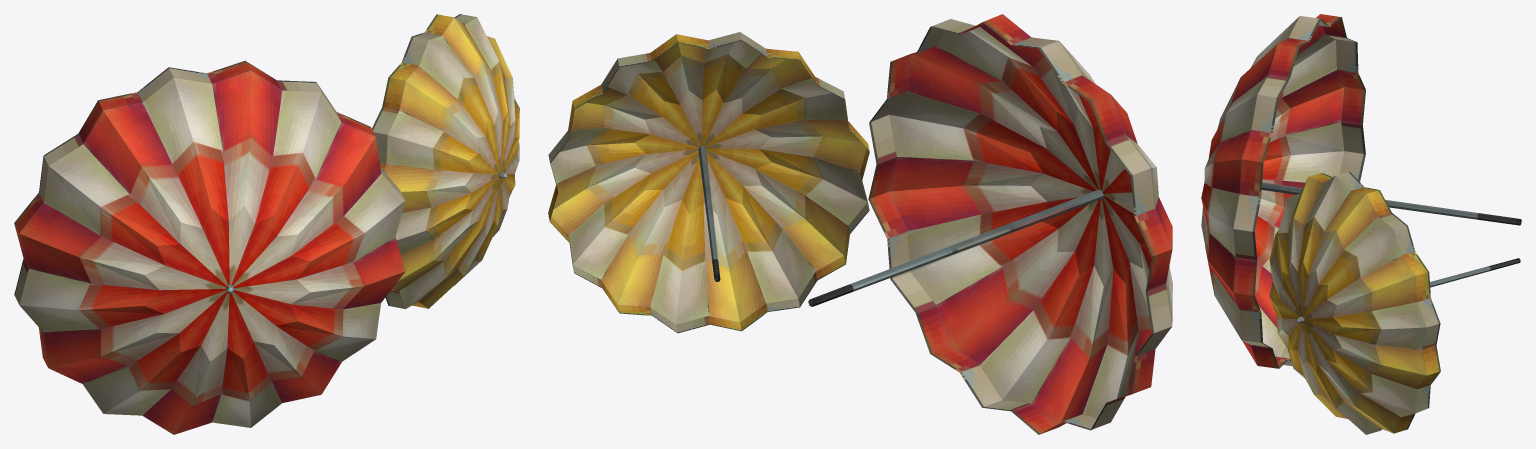
Rendered from summer_taiyangsan.obj.
The picture shows the model from 3 angles, left to right: view 1: azimuth 30°, elevation 25°; view 2: azimuth 150°, elevation 25°; view 3: azimuth 270°, elevation 25°; orthographic projection. The views are drawn at different scales.
Visible parts, largest first — view 1: summer_taiyangshan; view 2: summer_taiyangshan; view 3: summer_taiyangshan.
Part boxes in pixels (<box>): summer_taiyangshan: <box>14,14,519,434</box>; summer_taiyangshan: <box>548,14,1172,434</box>; summer_taiyangshan: <box>1201,14,1521,434</box>.
Size of the model in its own units: 274 by 176 by 160.
2 materials, 2 textured.
